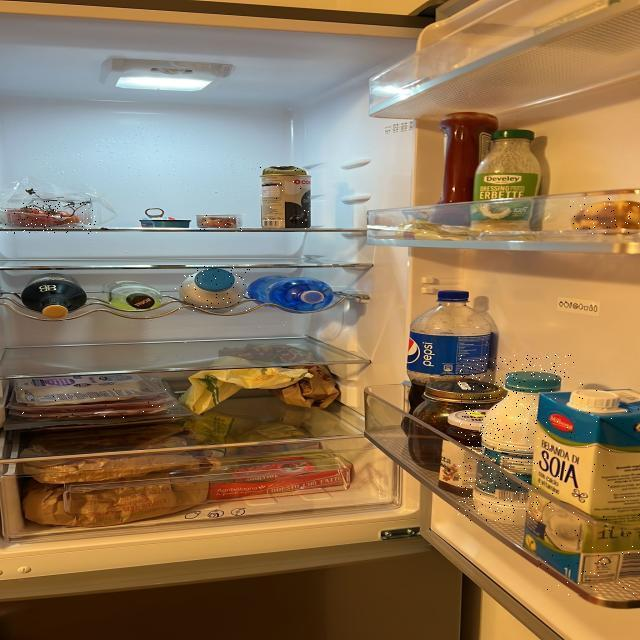Carne cerdo: (10, 388, 184, 418)
